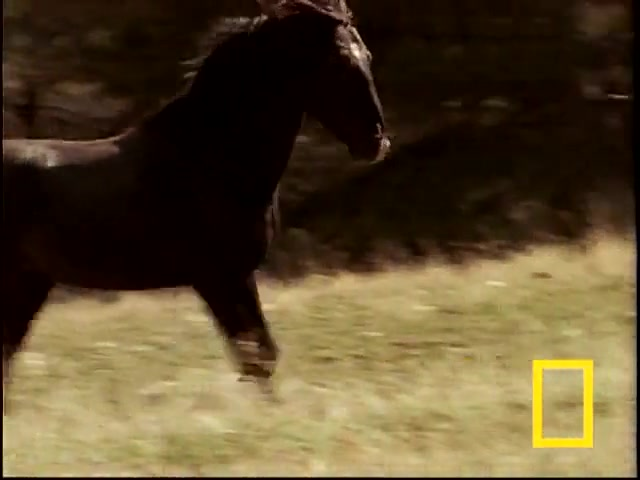horse: (1, 2, 396, 416)
